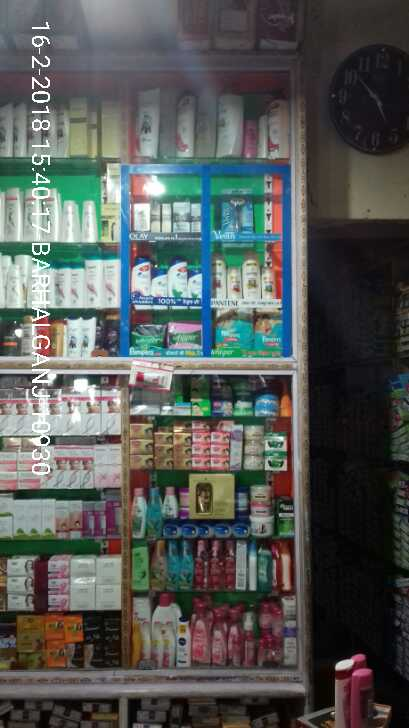venus: (223, 186, 252, 232)
